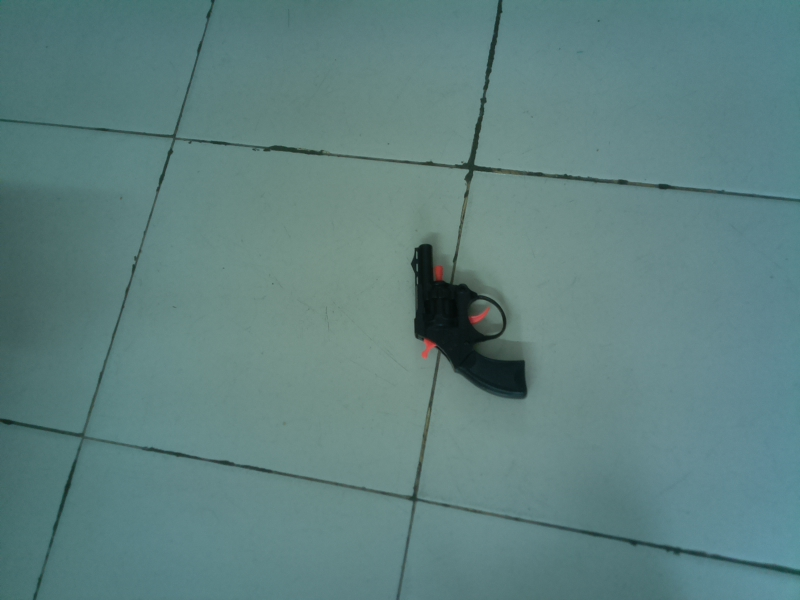Gun: (407, 237, 533, 404)
